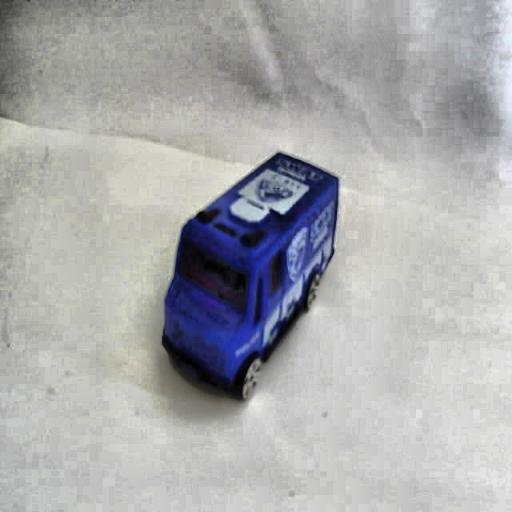police car: (158, 146, 340, 404)
